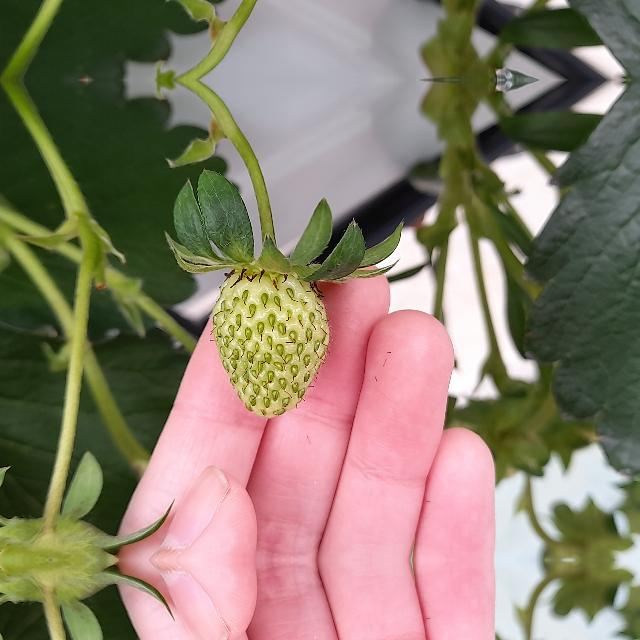Health_25: (212, 272, 330, 418)
